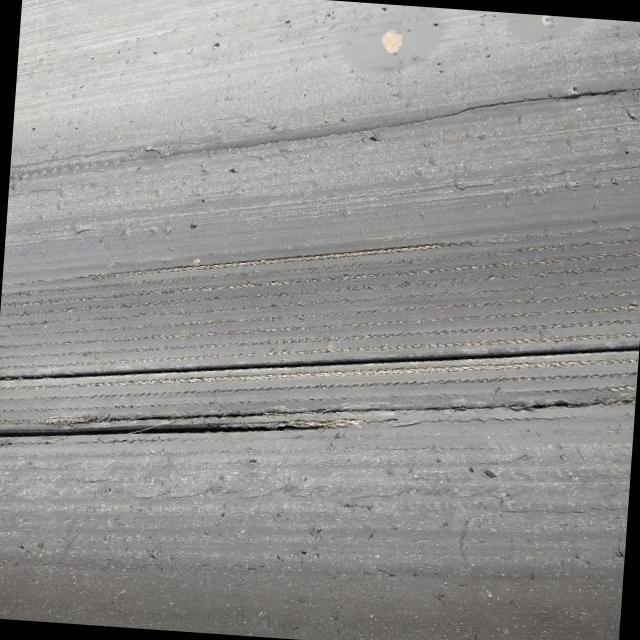Tear: (0, 340, 639, 382), (50, 392, 636, 425), (423, 75, 639, 127), (1, 419, 356, 443)
Wear: (0, 222, 640, 381)
